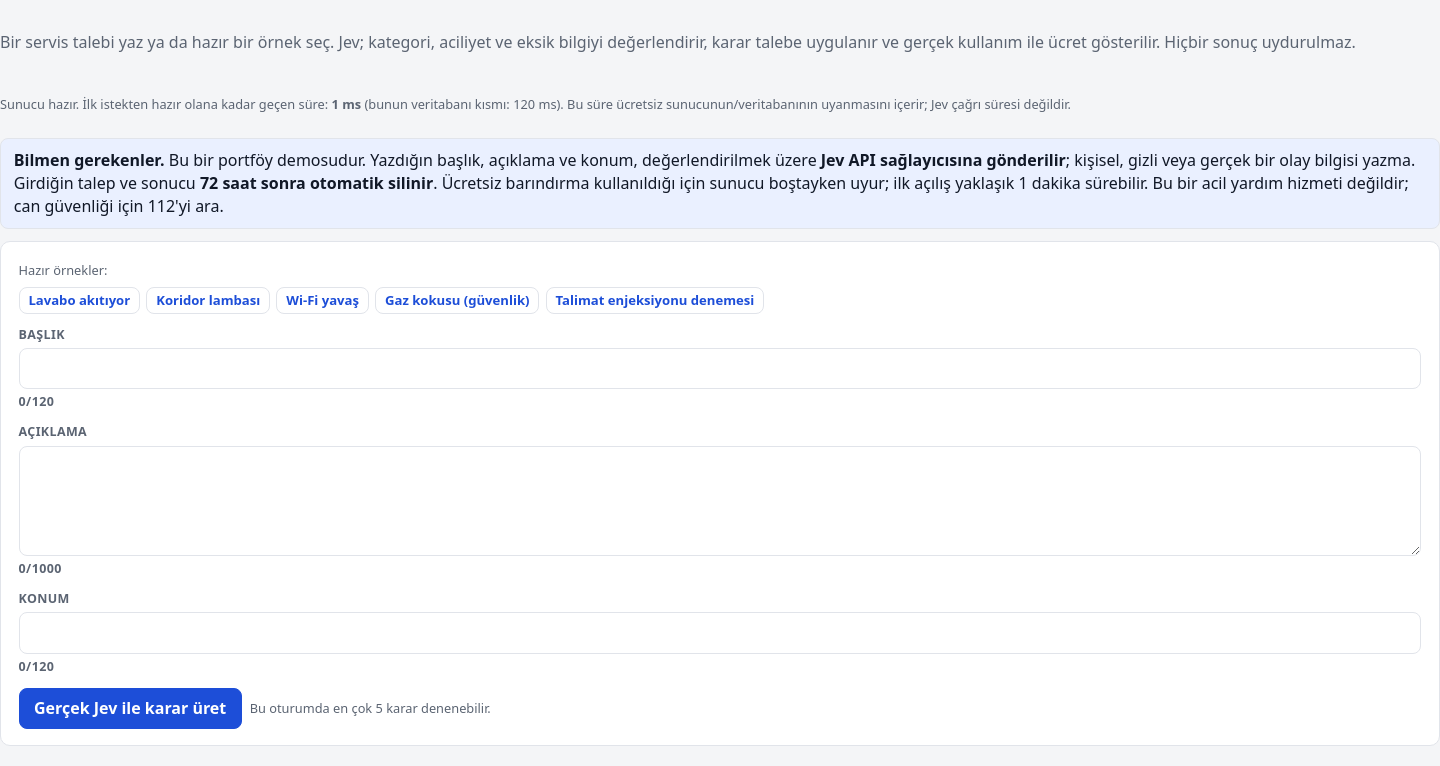
Test case: DemoPage: sonuç › kullanım bildirilmediyse ücret "bilinmiyor", token "bildirilmedi" (sıfır değil)
Expected: the element with test id "wake-summary" is shown, [0, 95, 1071, 113]
Click the button "Lavabo akıtıyor" at (79, 300), box [19, 287, 140, 314]
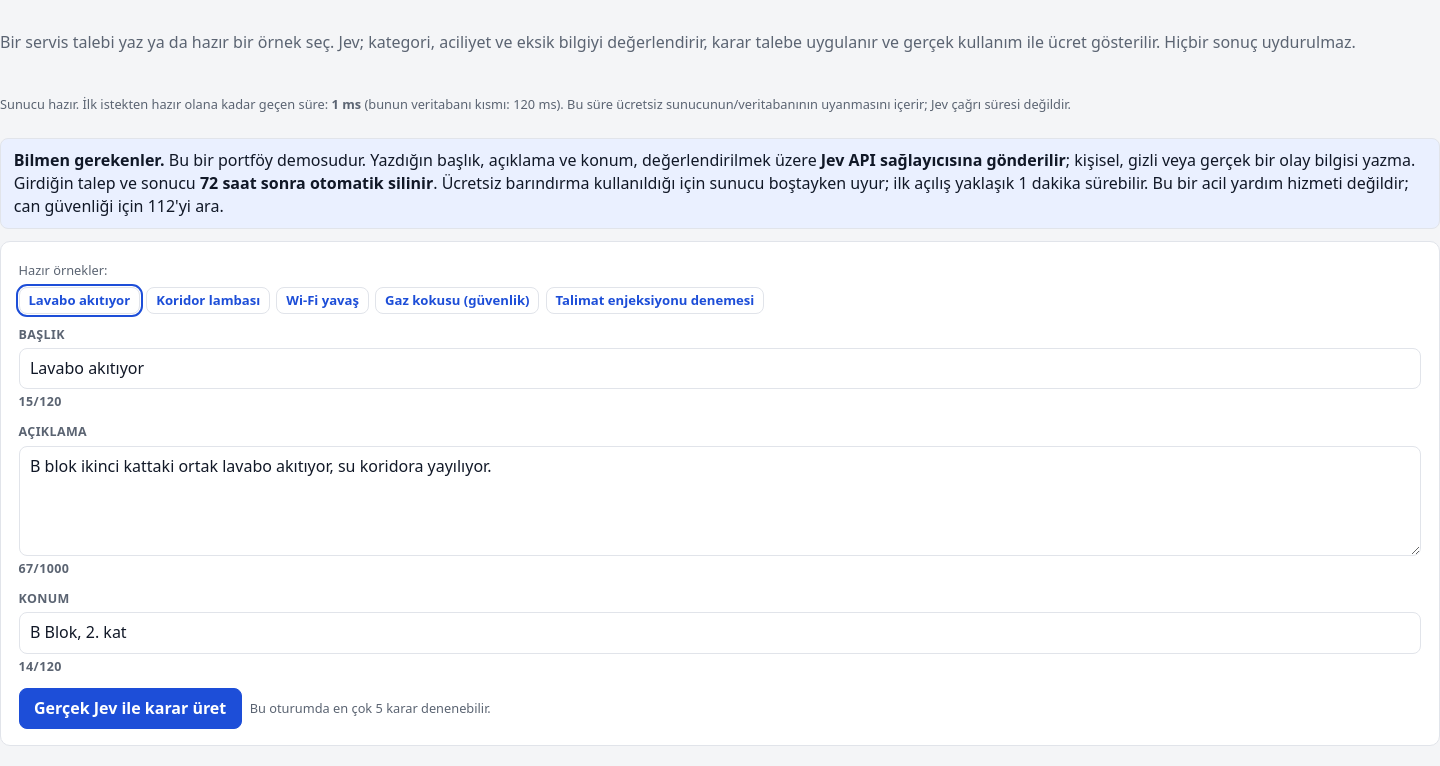
Click the button "Gerçek Jev ile karar üret" at (130, 708), box [19, 688, 242, 729]
(page scrolled)
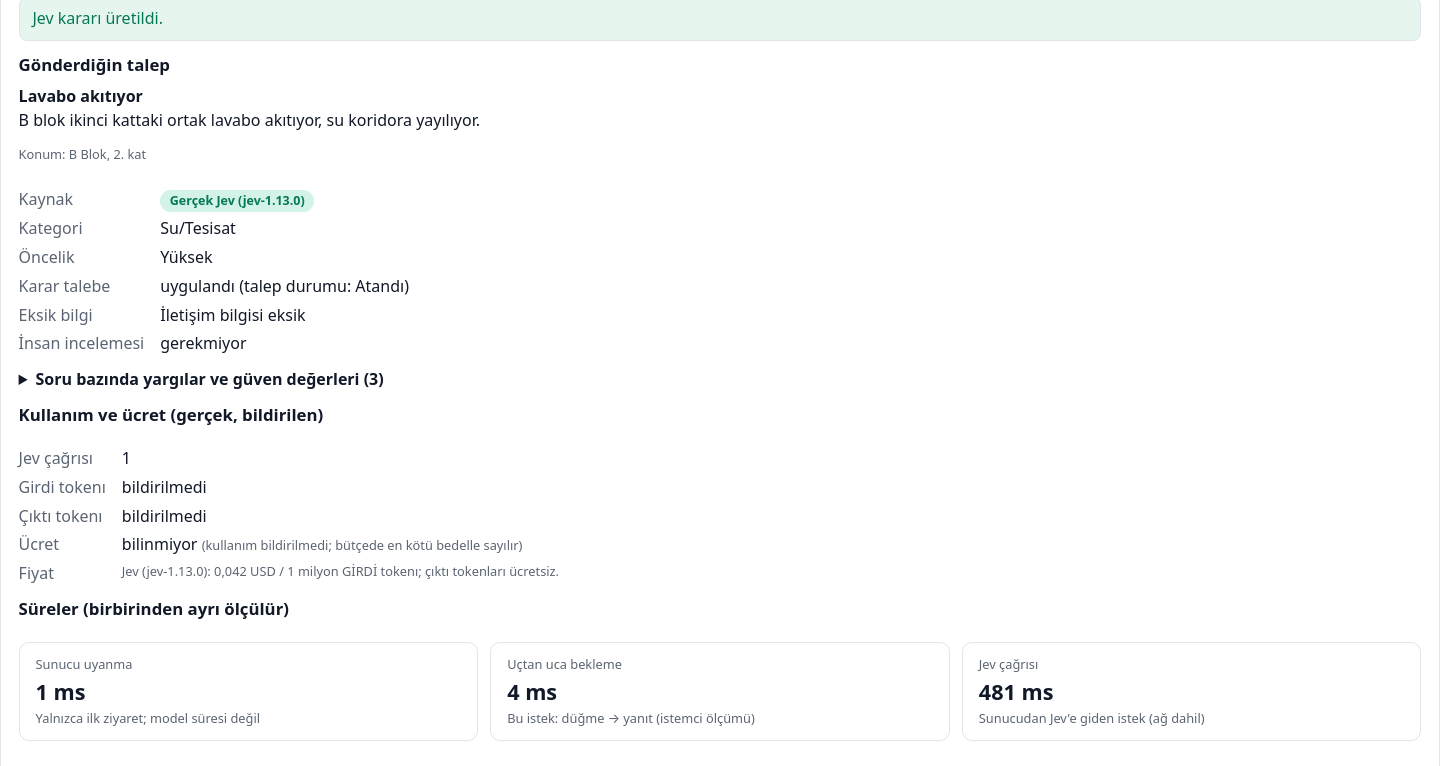
Now the element "Sonuç" shows "bilinmiyor", box [122, 533, 202, 555]
Now the element "Sonuç" shows "bütçede en kötü bedelle sayılır", box [202, 536, 522, 554]
Now the element "Sonuç" shows "bildirilmedi", box [122, 476, 207, 498]
